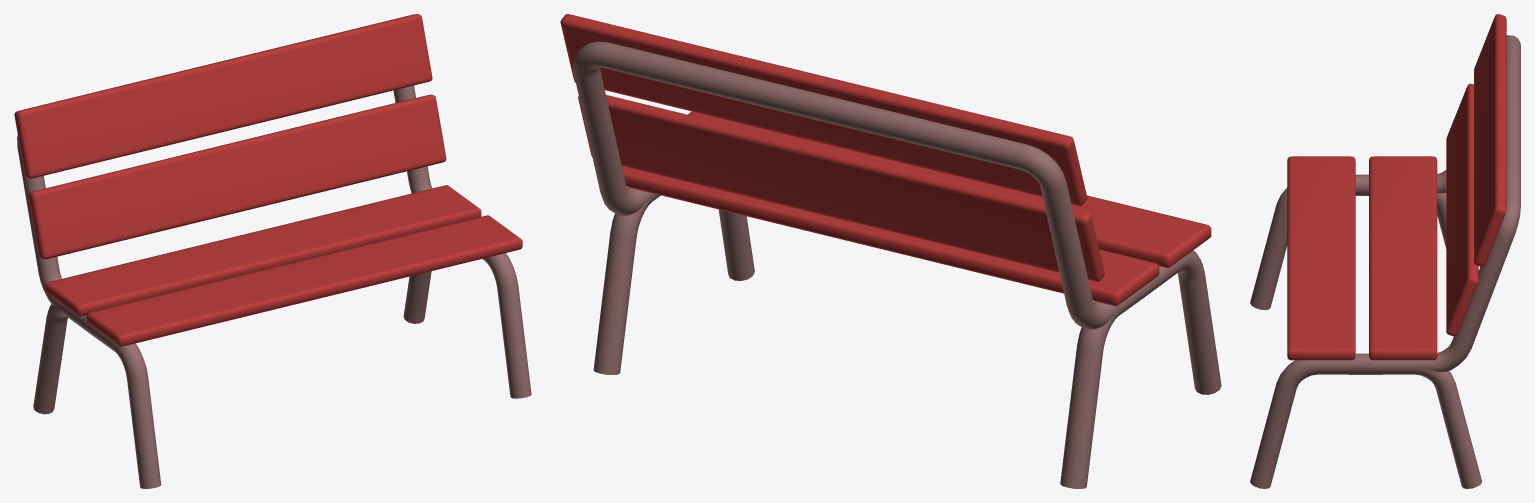
Rendered from bench.gltf.
3 views of the same model, side by side, from view 1: azimuth 30°, elevation 25°; view 2: azimuth 150°, elevation 25°; view 3: azimuth 270°, elevation 25° (orthographic). The views are drawn at different scales.
Visible parts, largest first — view 1: Plane.005, Plane.001, bench, Vert.001; view 2: Plane.005, Vert.001, Plane.001, bench; view 3: Plane.001, Plane.005, bench, Vert.001.
Part boxes in pixels (<box>): Plane.005: <box>14,14,446,259</box>; Plane.001: <box>45,185,522,346</box>; bench: <box>33,253,531,488</box>; Vert.001: <box>17,85,432,317</box>; Plane.005: <box>560,14,1104,281</box>; Vert.001: <box>573,41,1124,329</box>; Plane.001: <box>622,111,1211,306</box>; bench: <box>593,193,1221,488</box>; Plane.001: <box>1287,156,1437,360</box>; Plane.005: <box>1446,14,1506,336</box>; bench: <box>1250,174,1482,488</box>; Vert.001: <box>1410,35,1520,374</box>.
Size of the model in its own units: 2.37 by 1.61 by 1.37.
